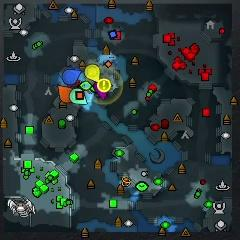Other: (98, 79, 111, 92)
p1: (62, 69, 82, 86)
p2: (70, 88, 87, 105)
p3: (94, 82, 108, 99)
p4: (85, 64, 100, 82)
p5: (57, 85, 74, 103)
